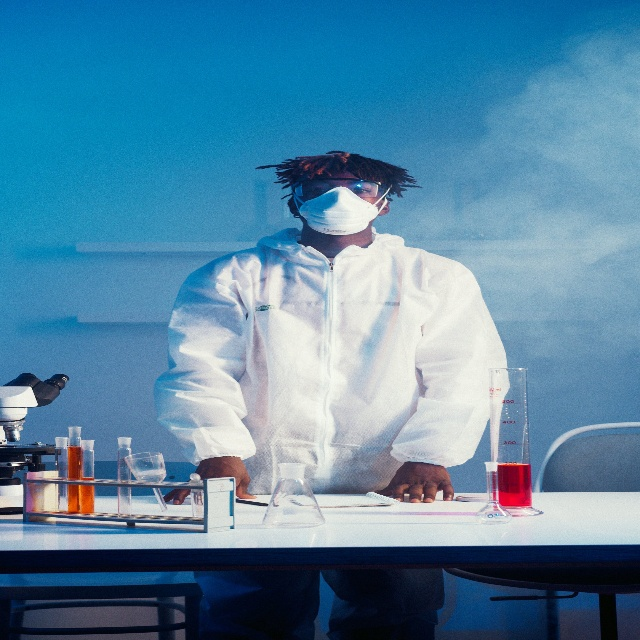Mascara: (297, 187, 378, 239)
Sin_guantes: (161, 455, 255, 506), (376, 452, 455, 503)
